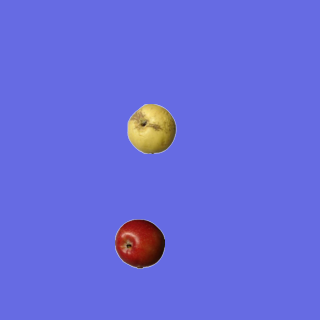Apple Braeburn: (114, 218, 164, 268)
Apple Golden 1: (126, 103, 176, 153)
